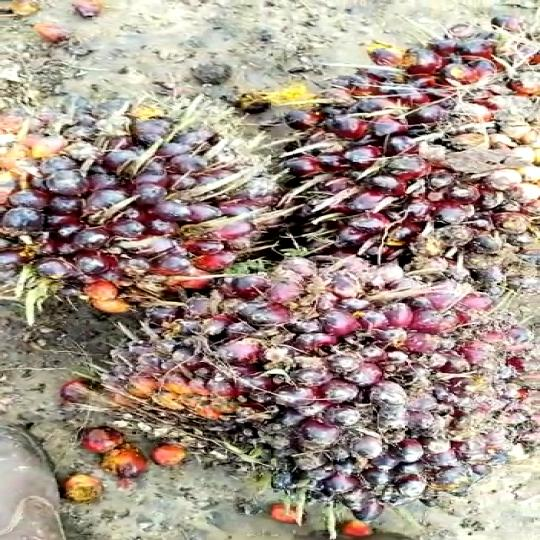kurang masak: (92, 253, 540, 506), (255, 19, 540, 289), (0, 101, 265, 314)
